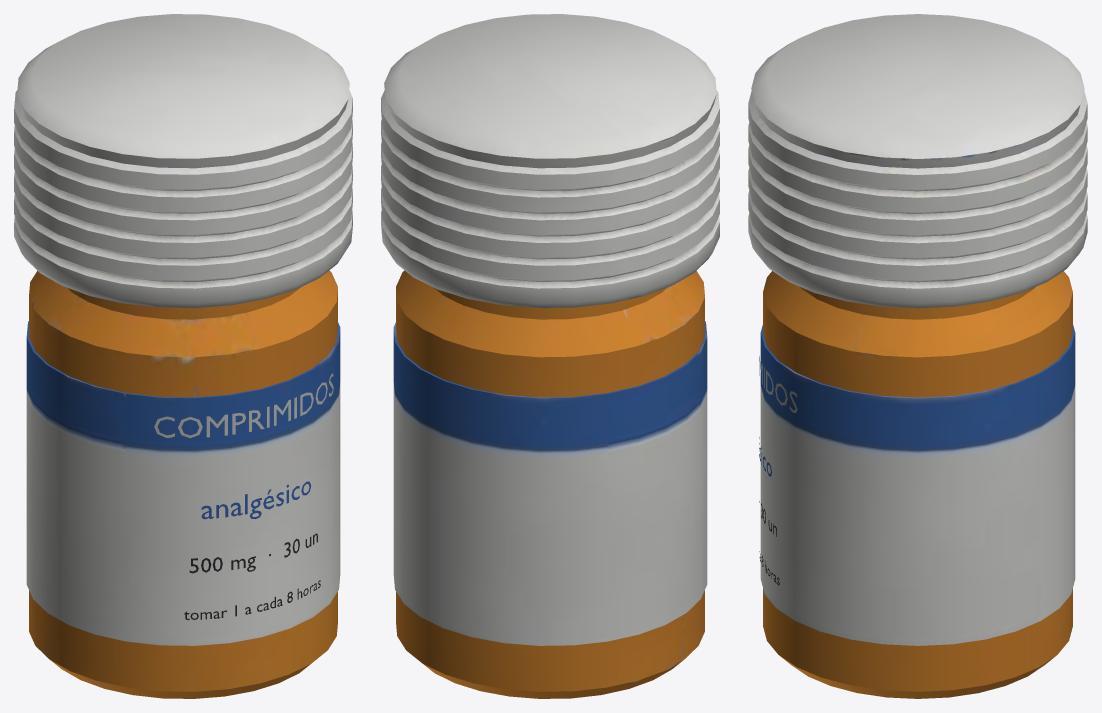
The model's file is frasco_remedio.glb.
3 renders of one model, left to right at view 1: azimuth 30°, elevation 25°; view 2: azimuth 150°, elevation 25°; view 3: azimuth 270°, elevation 25°, orthographic.
Parts seen in each view (by area): view 1: tampa, rotulo, frasco, letras; view 2: tampa, rotulo, frasco; view 3: tampa, rotulo, frasco, letras.
Part boxes in pixels (bbox=[...]): tampa: bbox=[14, 14, 352, 307]; rotulo: bbox=[26, 321, 340, 645]; frasco: bbox=[29, 270, 337, 698]; letras: bbox=[154, 373, 333, 619]; tampa: bbox=[381, 14, 719, 307]; rotulo: bbox=[393, 321, 707, 645]; frasco: bbox=[396, 270, 704, 698]; tampa: bbox=[748, 14, 1087, 308]; rotulo: bbox=[760, 325, 1075, 645]; frasco: bbox=[763, 271, 1072, 698]; letras: bbox=[759, 355, 797, 585].
Bounding box in the file's own units: 0.046 × 0.084 × 0.046.
Materials: 1 (1 with a texture image).
